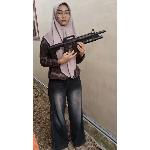Senapan: (45, 28, 111, 60)
